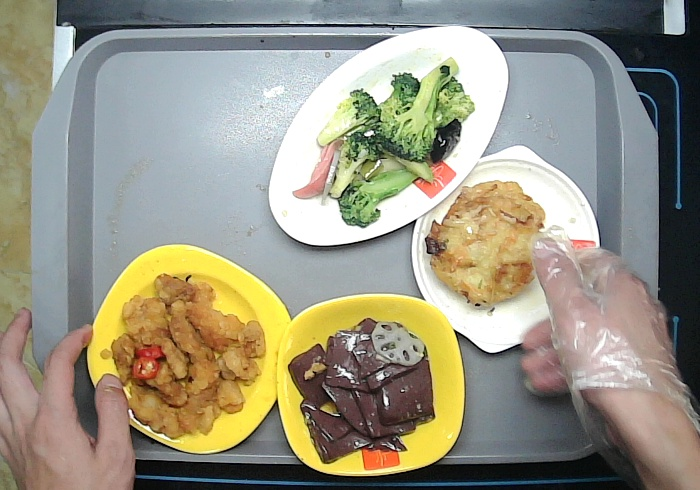SHKJ-Bao_Yu_Pan: (411, 144, 602, 355)
SHKJ-Huang_Se_Cai_Die: (275, 293, 465, 478)
SHKJ-Huang_Se_Si_Fang_Cai_Die: (85, 243, 292, 454)
SHKJ-Yu_Pan: (267, 24, 509, 247)
